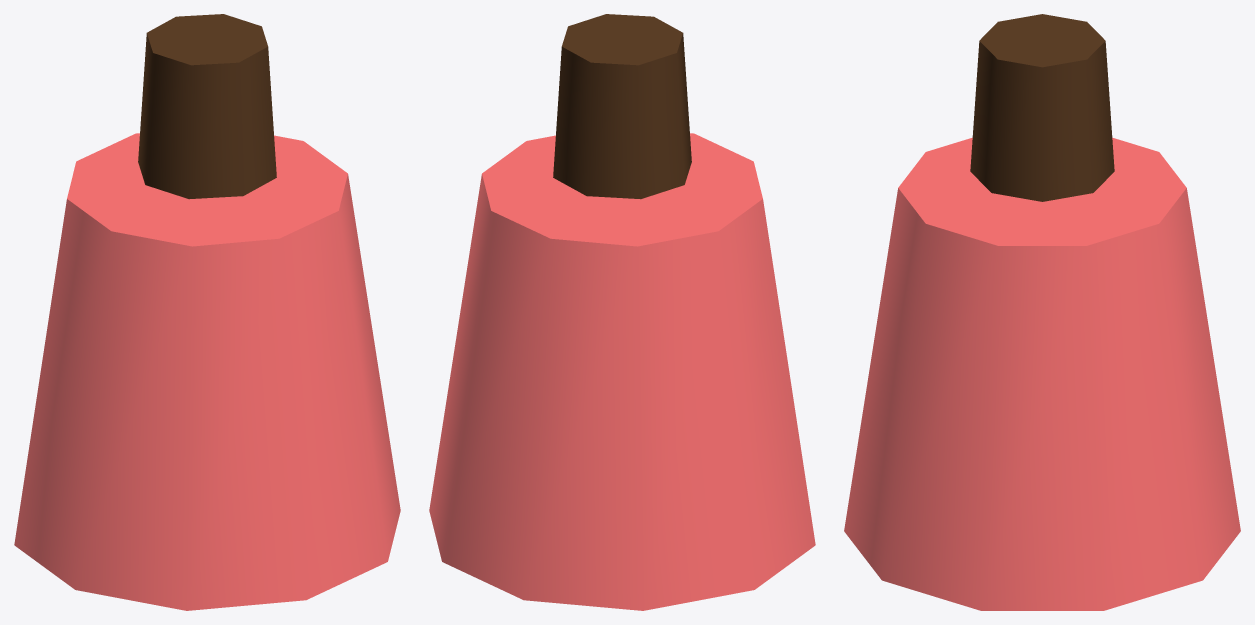
File: healing_potion.glb
3 views of the same model, side by side, from view 1: azimuth 30°, elevation 25°; view 2: azimuth 150°, elevation 25°; view 3: azimuth 270°, elevation 25° (orthographic).
Parts seen in each view (by area): view 1: healing-potion-bottle, healing-potion-cork; view 2: healing-potion-bottle, healing-potion-cork; view 3: healing-potion-bottle, healing-potion-cork.
Boxes of the visible parts, x1,y1,x2,y2 form: healing-potion-bottle: (14, 133, 400, 610); healing-potion-cork: (138, 14, 276, 199); healing-potion-bottle: (429, 133, 815, 610); healing-potion-cork: (553, 14, 691, 199); healing-potion-bottle: (844, 137, 1240, 610); healing-potion-cork: (970, 14, 1114, 201).
Bounding box in the file's own units: 0.4185 × 0.6 × 0.44.
